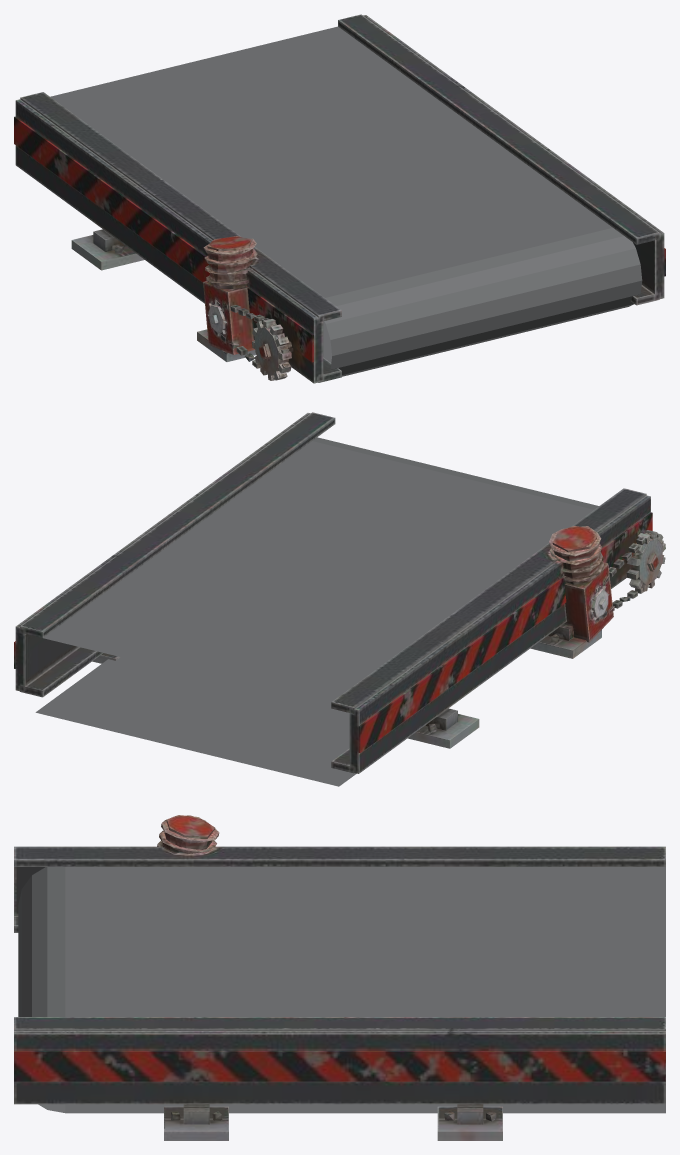
Rendered from esteira_inicio_rapida.glb.
3 views of the same model, one above another, from view 1: azimuth 30°, elevation 25°; view 2: azimuth 150°, elevation 25°; view 3: azimuth 270°, elevation 25° (orthographic). The views are drawn at different scales.
Visible parts, largest first — view 1: esteira_inicio_rapida_corpo; view 2: esteira_inicio_rapida_corpo; view 3: esteira_inicio_rapida_corpo.
Boxes of the visible parts, x1,y1,x2,y2 form: esteira_inicio_rapida_corpo: [14, 14, 665, 383]; esteira_inicio_rapida_corpo: [14, 412, 665, 786]; esteira_inicio_rapida_corpo: [14, 815, 665, 1140].
Size of the model in its own units: 0.7687 by 0.2038 by 1.
Materials: 2 (1 with a texture image).
